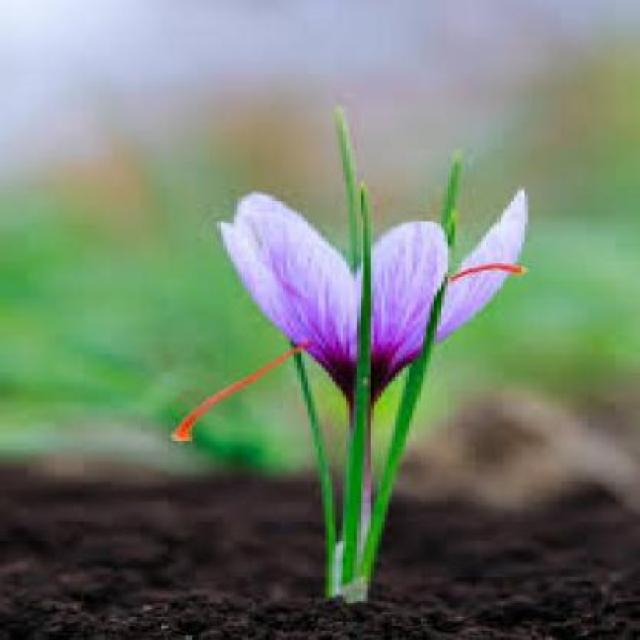Flower: (212, 192, 530, 413)
stigma: (163, 348, 304, 448), (440, 247, 523, 296)
